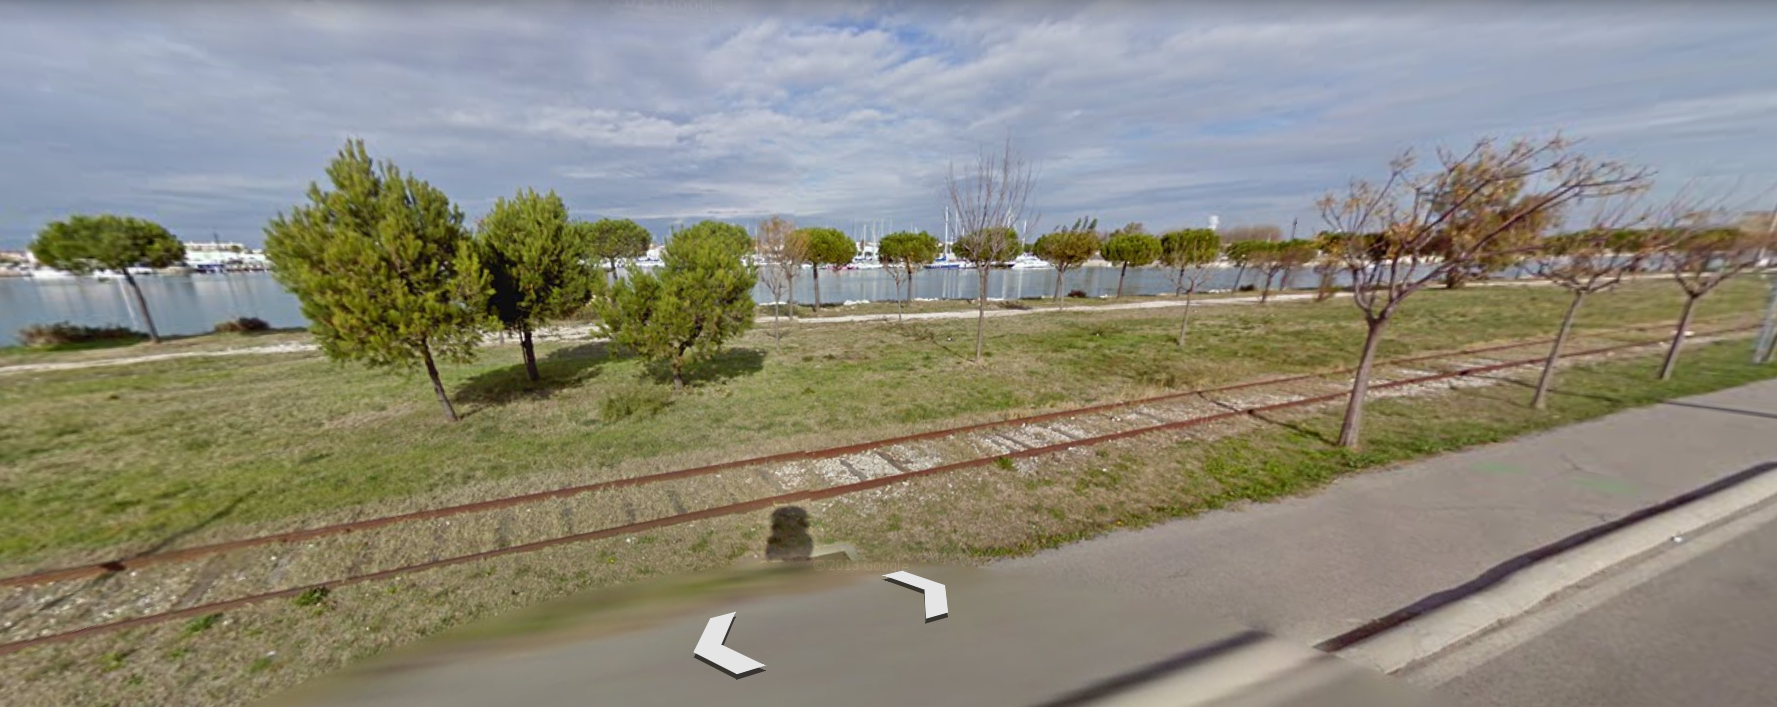Tree: (1317, 156, 1583, 458), (277, 148, 490, 449), (603, 206, 759, 383), (23, 208, 206, 343), (475, 194, 589, 373), (954, 220, 1032, 344), (1248, 221, 1323, 330), (780, 221, 862, 315), (1170, 221, 1234, 330), (877, 228, 946, 316), (1040, 223, 1100, 316), (1104, 220, 1164, 307)
